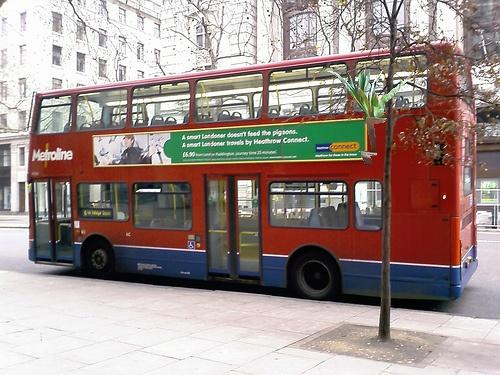tampered: (328, 69, 413, 165)
